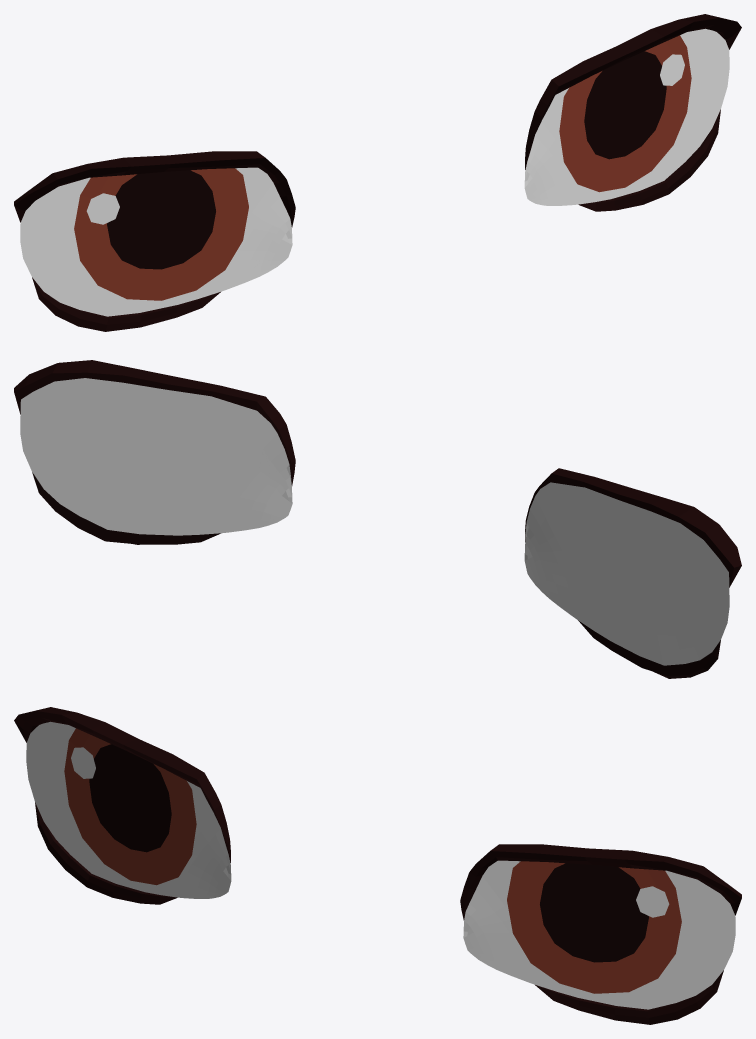
File: eyes_cool.glb
3 renders of one model, top to bottom at view 1: azimuth 30°, elevation 25°; view 2: azimuth 150°, elevation 25°; view 3: azimuth 330°, elevation 25°, orthographic.
Visible parts, largest first — view 1: eyes_cool; view 2: eyes_cool; view 3: eyes_cool.
Part boxes in pixels (left/top/right/bottom): eyes_cool: left=14, top=14, right=741, bottom=331; eyes_cool: left=14, top=360, right=741, bottom=678; eyes_cool: left=14, top=707, right=741, bottom=1024.
Size of the model in its own units: 0.2361 by 0.0534 by 0.0225.
